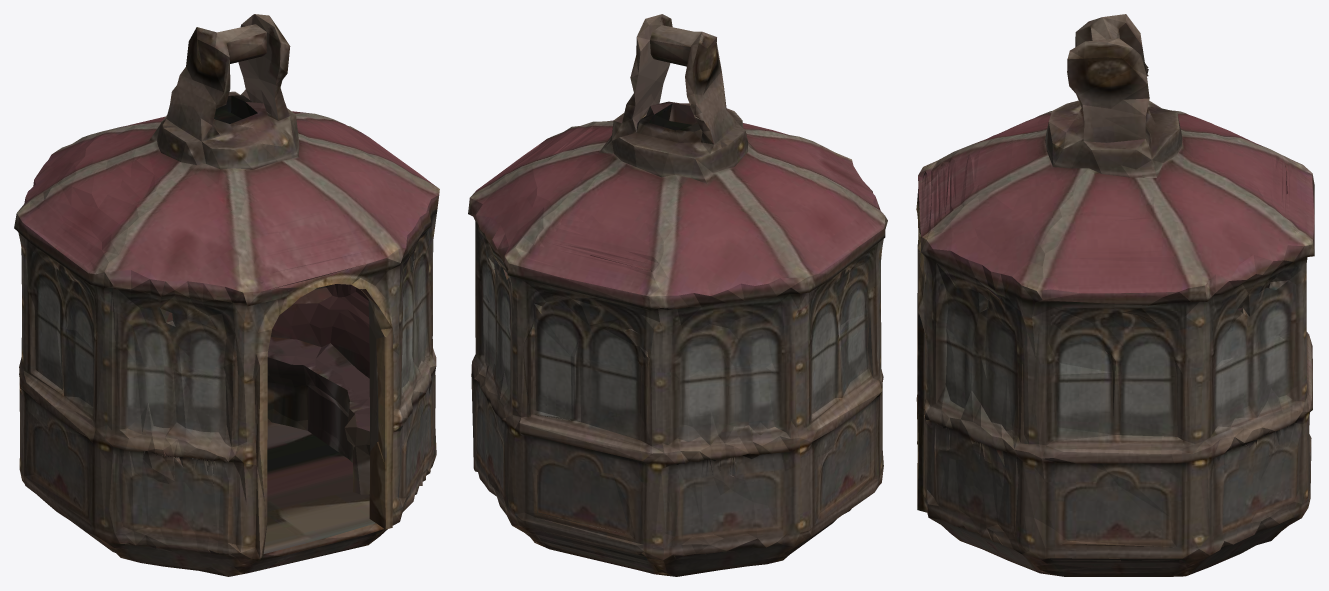
File: park_broken_gondola_1117.glb
3 renders of one model, left to right at view 1: azimuth 30°, elevation 25°; view 2: azimuth 150°, elevation 25°; view 3: azimuth 270°, elevation 25°, orthographic. The views are drawn at different scales.
Visible parts, largest first — view 1: world; view 2: world; view 3: world.
Part boxes in pixels (left/top/right/bottom): world: left=14, top=14, right=439, bottom=576; world: left=468, top=14, right=887, bottom=576; world: left=916, top=14, right=1314, bottom=576.
Size of the model in its own units: 0.7615 by 1 by 0.7428.
1 material, 1 textured.
